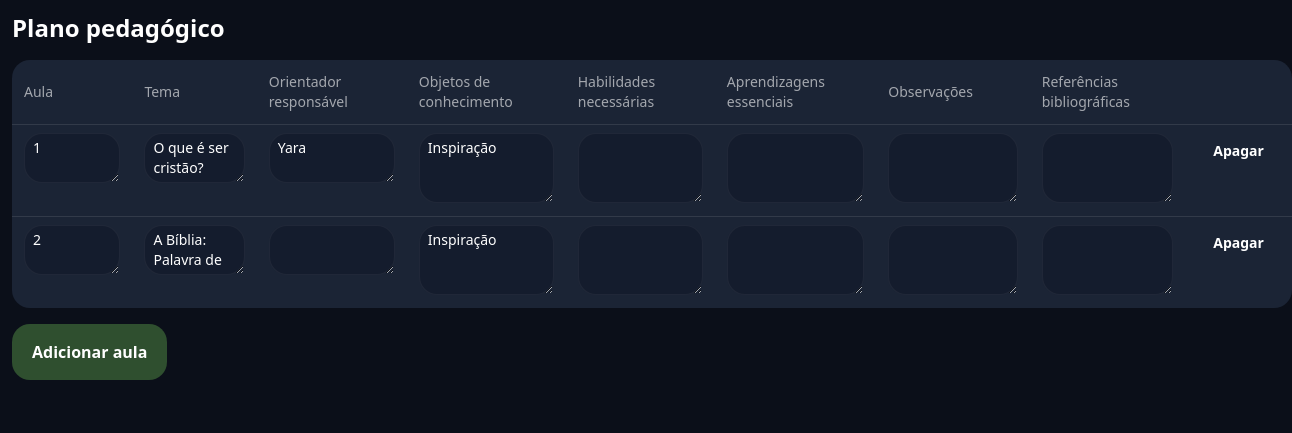
Test case: PlanPage — curador edita como numa planilha › alterar o tema e sair do campo salva só aquele campo
Replace the text in the text box named "Tema da aula 1" with "Novo tema" at (195,158), box [144,133,245,183]
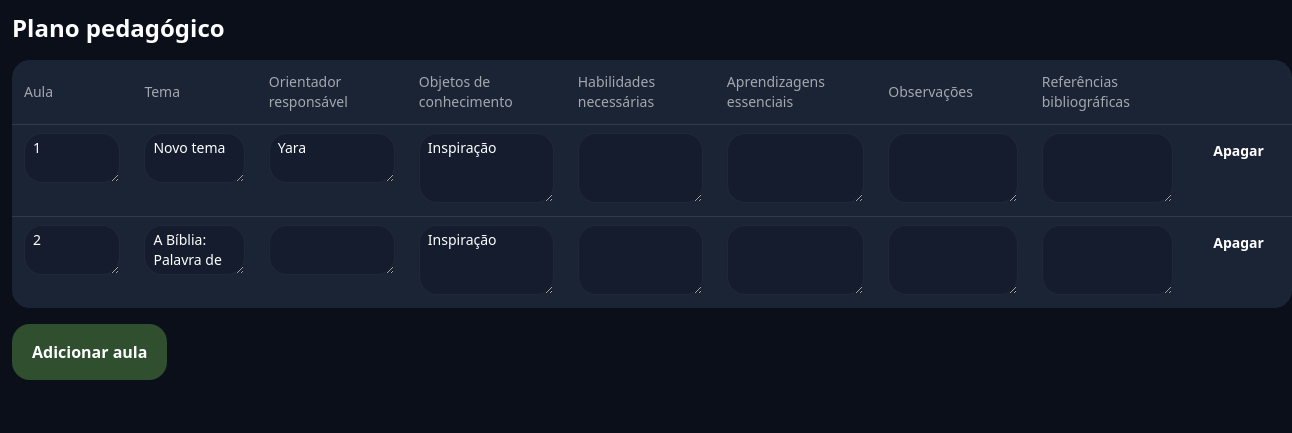
Leave the text box named "Tema da aula 1", box [144,133,245,183]
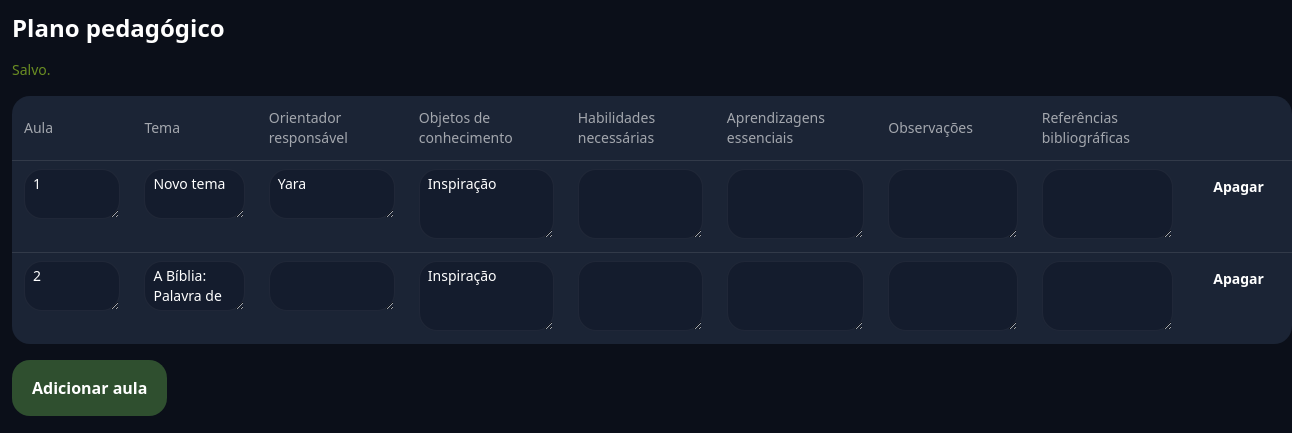
Expected: the message reads "Salvo.", [12,60,50,79]
